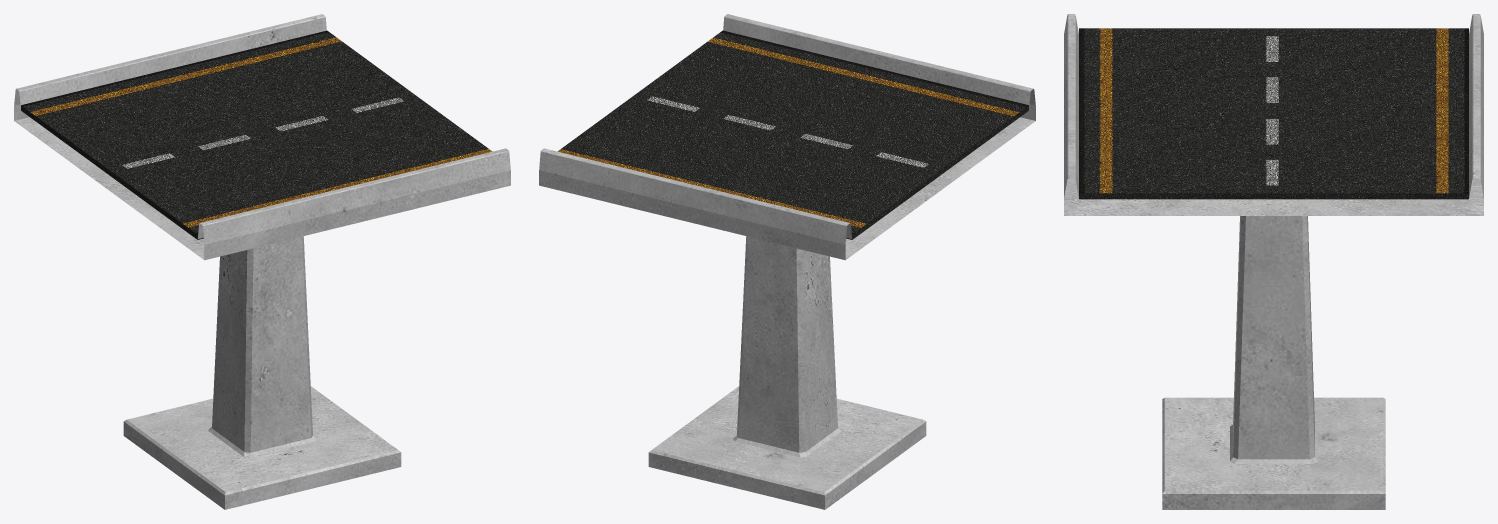
The model's file is road_glb.glb.
3 views of the same model, side by side, from view 1: azimuth 30°, elevation 25°; view 2: azimuth 150°, elevation 25°; view 3: azimuth 270°, elevation 25° (orthographic). The views are drawn at different scales.
Parts seen in each view (by area): view 1: Demo Model; view 2: Demo Model; view 3: Demo Model.
Part boxes in pixels (bbox=[...]): Demo Model: bbox=[14, 14, 510, 509]; Demo Model: bbox=[539, 14, 1035, 509]; Demo Model: bbox=[1064, 14, 1483, 509].
Size of the model in its own units: 2 by 2.07 by 2.15.
Materials: 2 (2 with a texture image).
